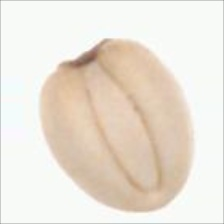L5: (79, 61, 166, 193), (56, 38, 113, 73)
L6: (37, 35, 196, 215)
